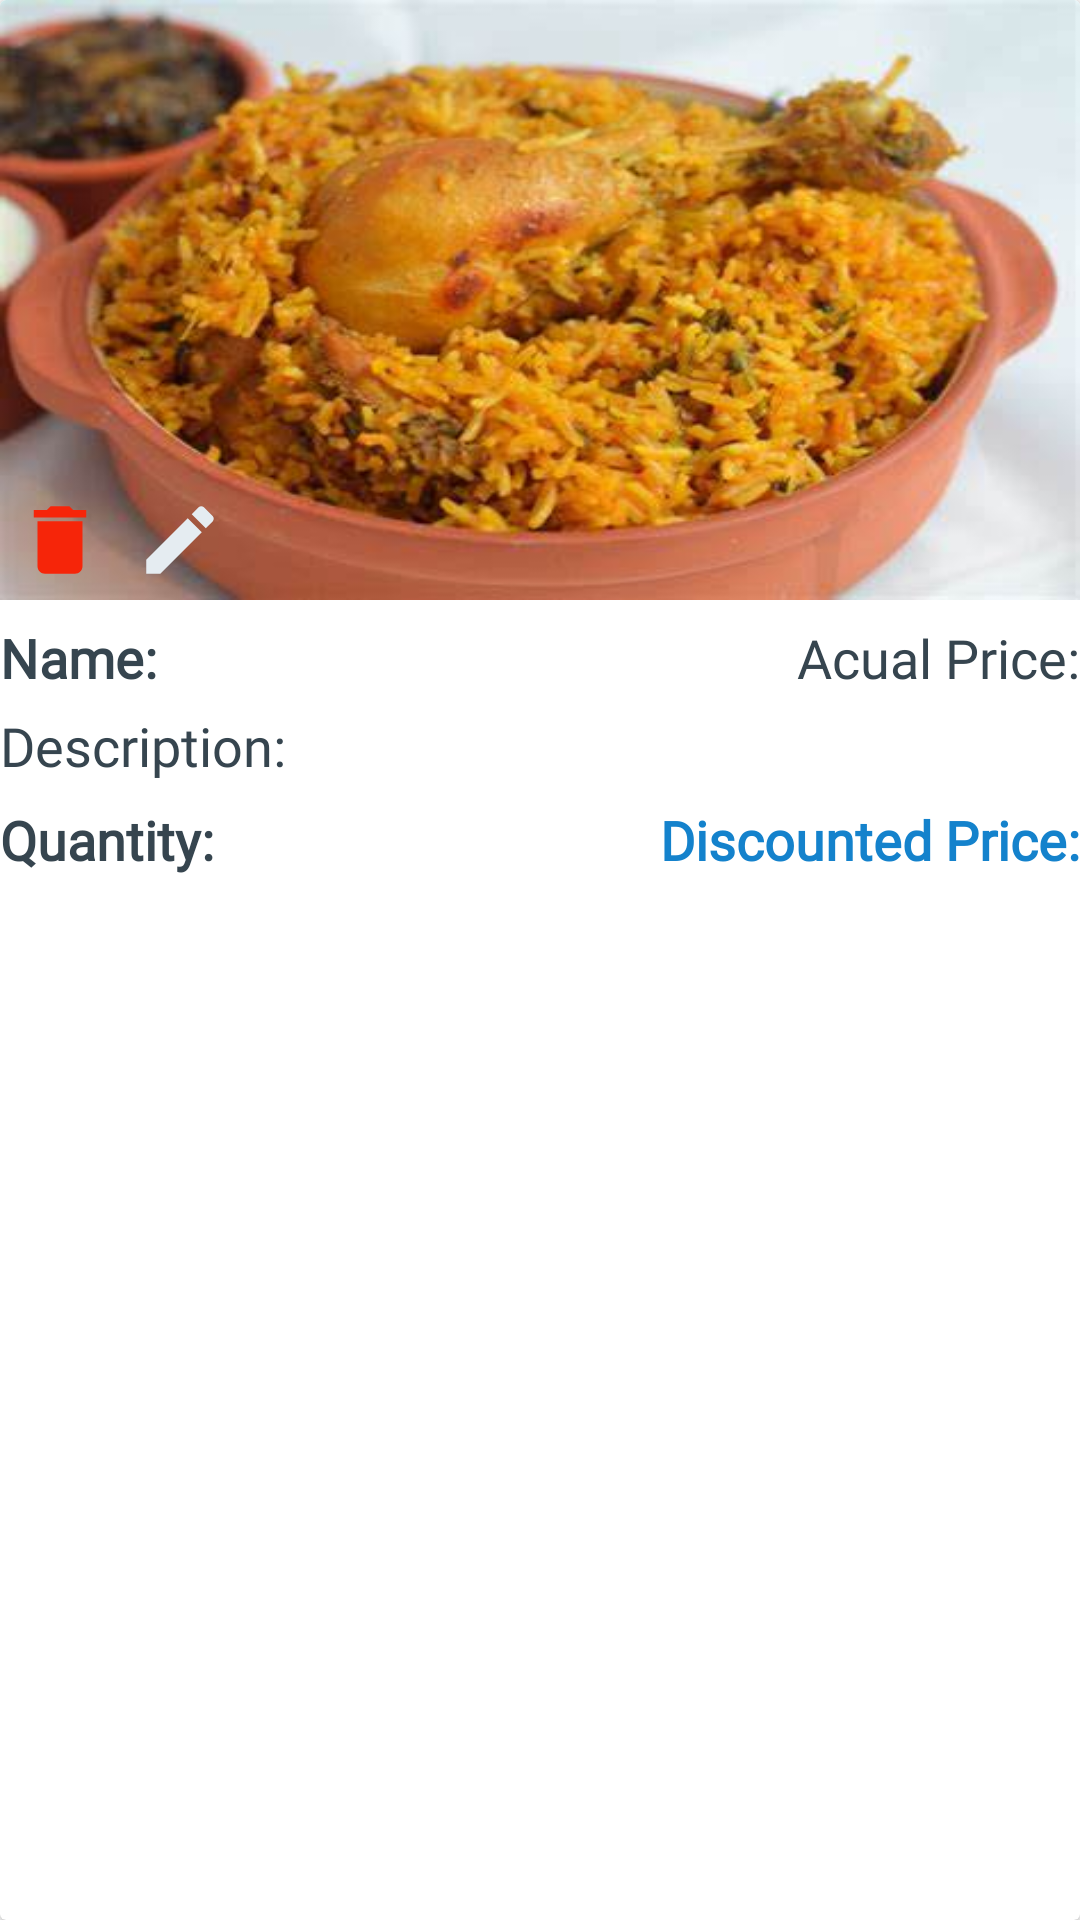

Where to tap for icons on this 1080 x 1920 app screen, as [x,y]:
delete: [69,534]
edit: [180,540]
